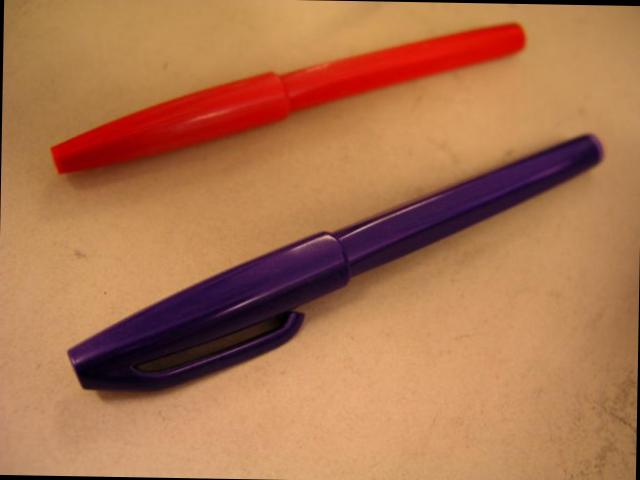PEN: (50, 51, 614, 450)
